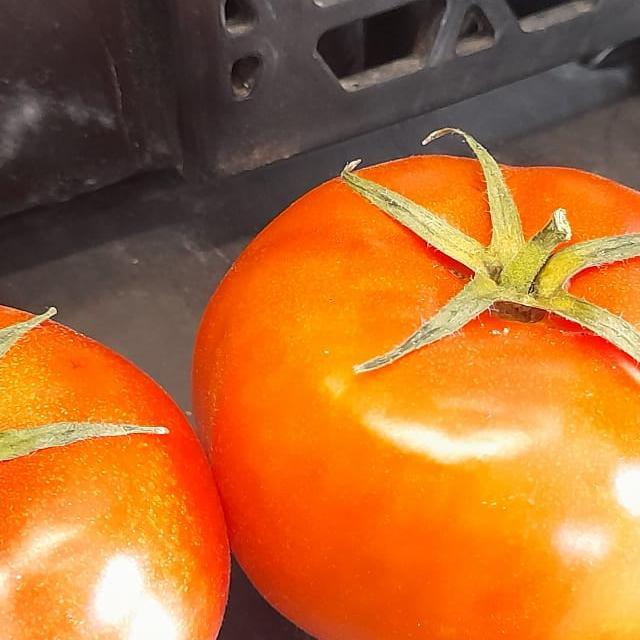tomato: (185, 122, 640, 640), (0, 270, 225, 640)
